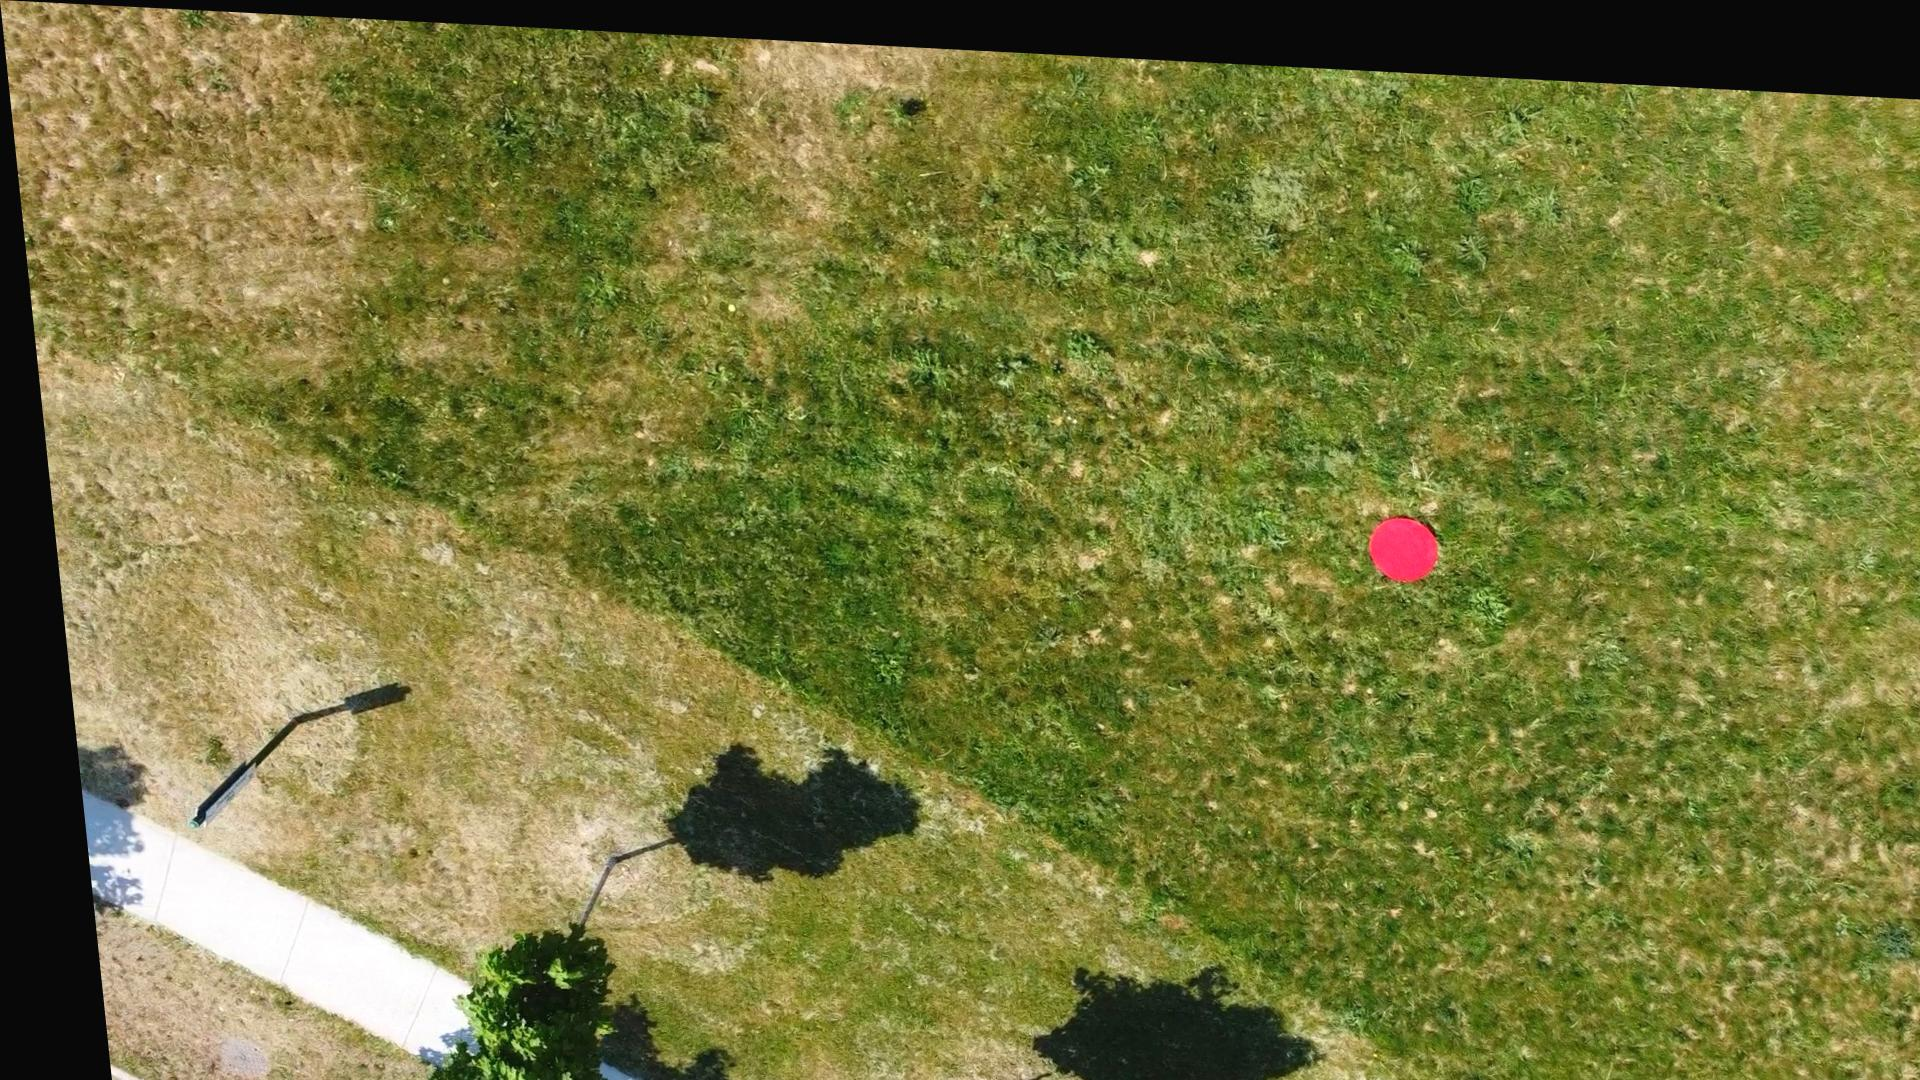Red: (1353, 498, 1432, 570)
